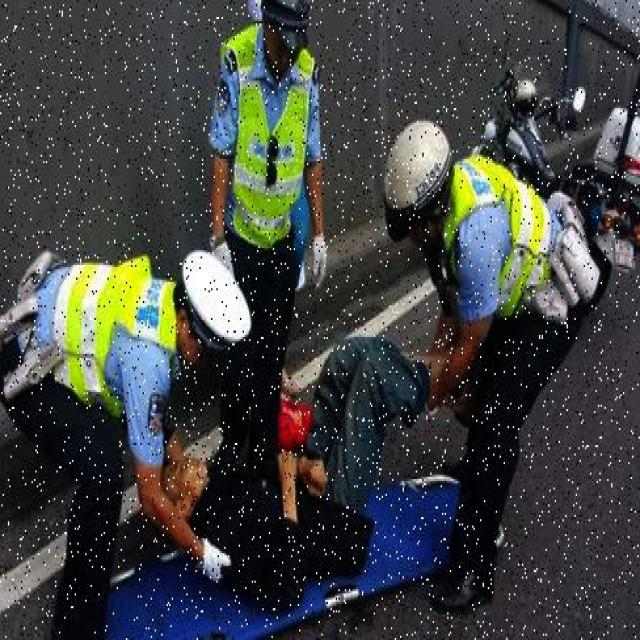fall: (173, 330, 438, 590)
